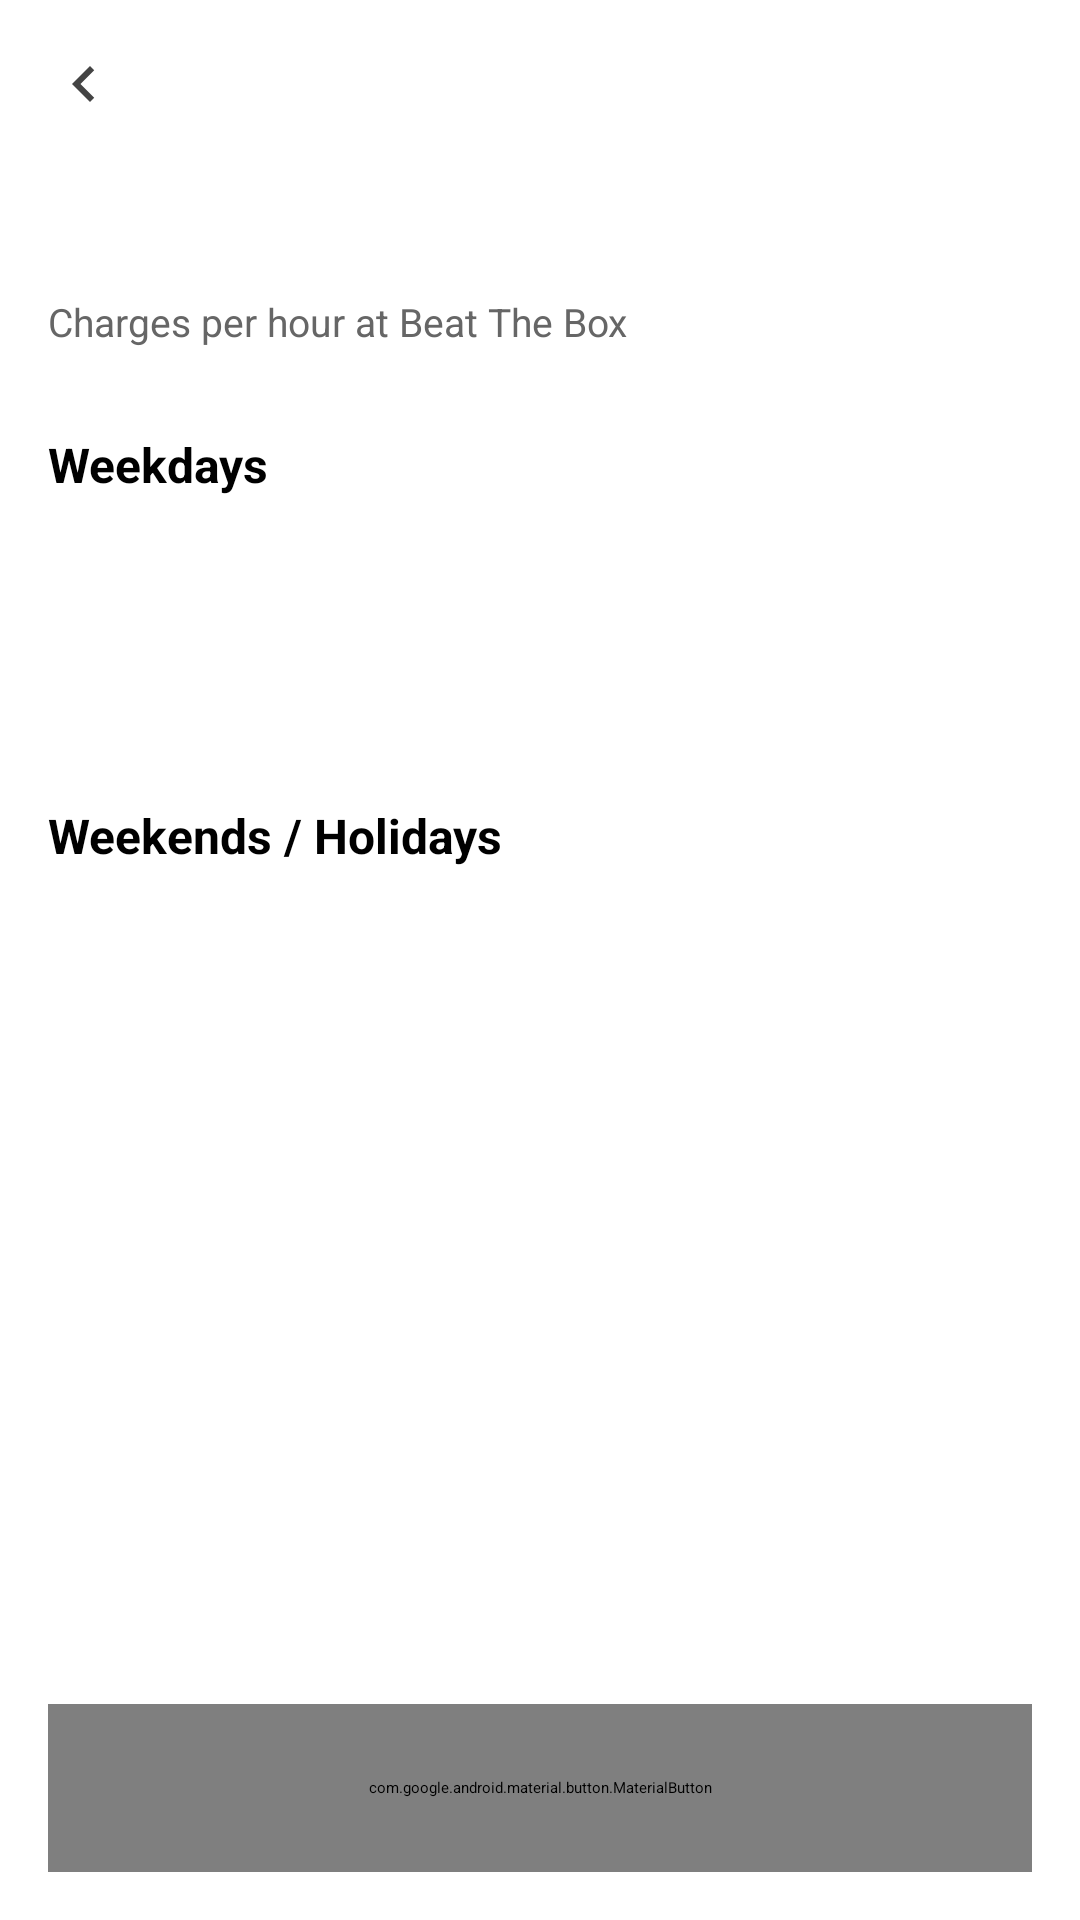

Where icons sit on this 1080x1920 app screen, as (x1, y1, x2, y2):
chevron left: (72, 66, 94, 102)
